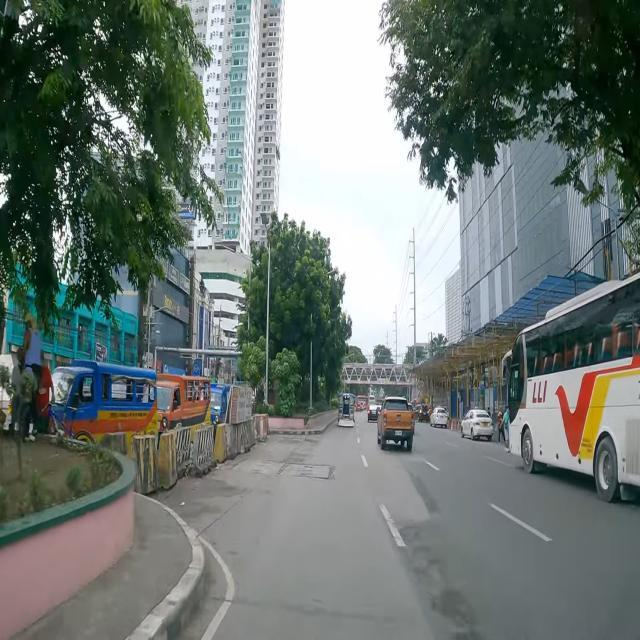bike: (42, 396, 96, 444)
bus: (502, 271, 640, 502), (368, 396, 376, 404)
car: (377, 396, 413, 451), (461, 406, 494, 441), (430, 405, 448, 428), (414, 404, 430, 423), (367, 403, 380, 422)
jeepney: (338, 393, 355, 427)
